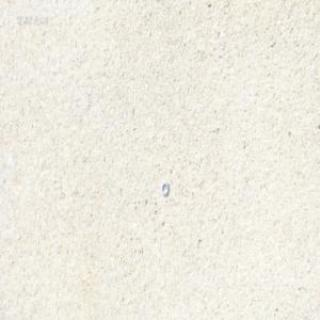Washertrack_idkeyframe: (160, 180, 168, 196)
